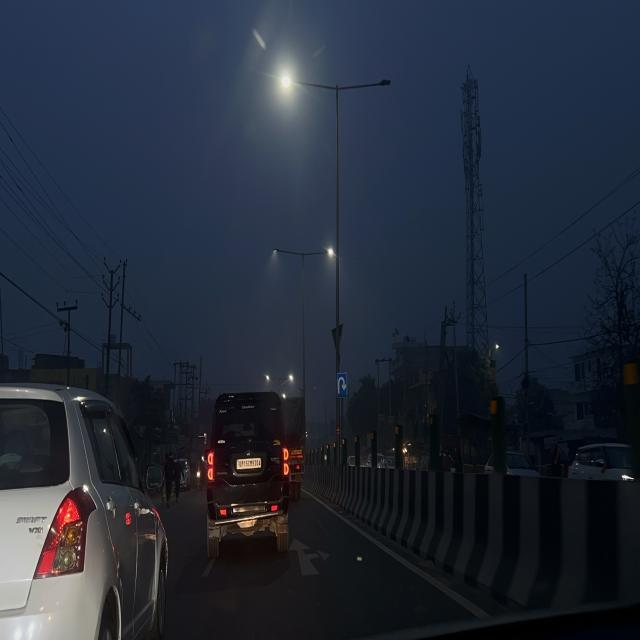U_TURN: (336, 371, 348, 399)
